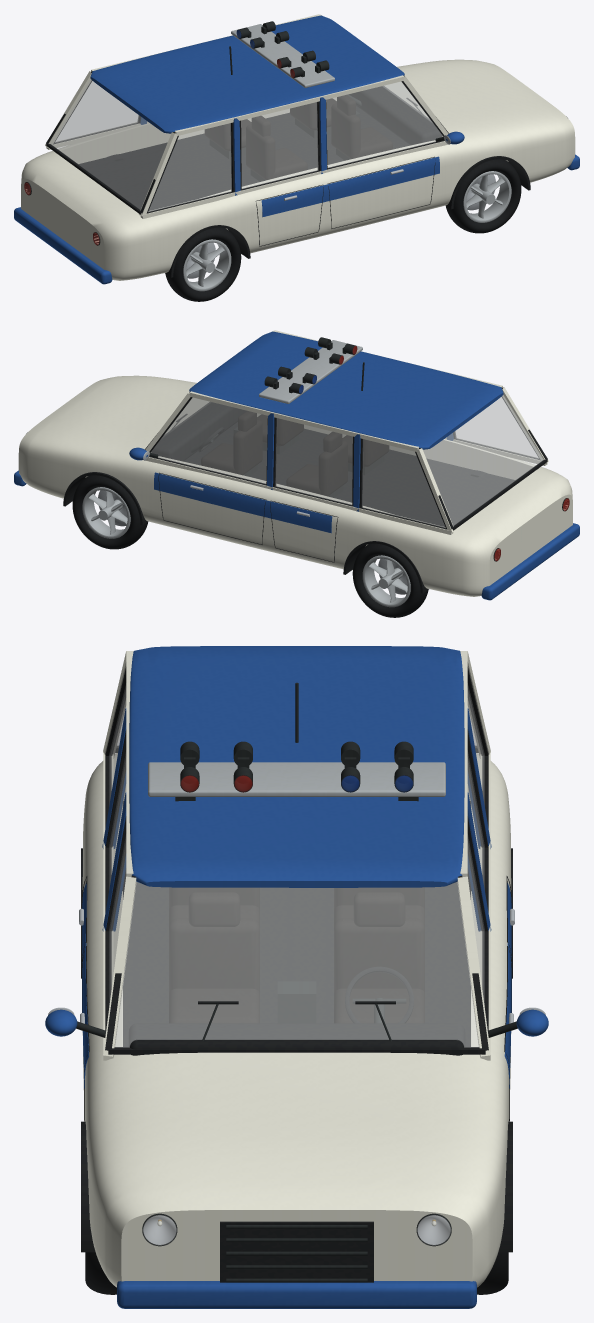
File: crime-police-suv.glb
3 renders of one model, top to bottom at view 1: azimuth 30°, elevation 25°; view 2: azimuth 150°, elevation 25°; view 3: azimuth 270°, elevation 25°, orthographic. The views are drawn at different scales.
Parts seen in each view (by area): view 1: Patrol sculpted body with cut cabin and wheel arches, Patrol shaped finite roof panel, Patrol cabin floor, Patrol rear screen finite transparent pane, Patrol front door glazing -1 finite transparent pane, Patrol rear door glazing -1 finite transparent pane, Patrol rear quarter glazing -1 finite transparent pane, Patrol generic blue side livery -1, Patrol closed dashboard, Patrol rear quarter glazing 1 finite transparent pane, Patrol wheel 1510.0 -1 rounded tyre carcass, Patrol wheel -1510.0 -1 rounded tyre carcass (+21 smaller); view 2: Patrol sculpted body with cut cabin and wheel arches, Patrol shaped finite roof panel, Patrol cabin floor, Patrol rear screen finite transparent pane, Patrol front door glazing 1 finite transparent pane, Patrol rear door glazing 1 finite transparent pane, Patrol rear quarter glazing 1 finite transparent pane, Patrol generic blue side livery 1, Patrol closed dashboard, Patrol rear quarter glazing -1 finite transparent pane, Patrol wheel 1510.0 1 rounded tyre carcass, Patrol wheel -1510.0 1 rounded tyre carcass (+21 smaller); view 3: Patrol sculpted body with cut cabin and wheel arches, Patrol shaped finite roof panel, Patrol windscreen finite transparent pane, Patrol cabin floor, Patrol bumper 1, Patrol closed dashboard, Patrol light bar base, Patrol grille backing, Patrol seat back 0 -1, Patrol seat back 0 1, Patrol seat cushion 0 -1, Patrol seat cushion 0 1 (+23 smaller).
Boxes of the visible parts, x1,y1,x2,y2 form: Patrol sculpted body with cut cabin and wheel arches: (21,59,575,280); Patrol shaped finite roof panel: (90,15,404,133); Patrol cabin floor: (79,106,409,210); Patrol rear screen finite transparent pane: (50,79,170,209); Patrol front door glazing -1 finite transparent pane: (326,82,442,167); Patrol rear door glazing -1 finite transparent pane: (241,102,318,188); Patrol rear quarter glazing -1 finite transparent pane: (148,123,231,211); Patrol generic blue side livery -1: (261,156,439,217); Patrol closed dashboard: (349,86,442,145); Patrol rear quarter glazing 1 finite transparent pane: (55,81,138,142); Patrol wheel 1510.0 -1 rounded tyre carcass: (445,159,521,233); Patrol wheel -1510.0 -1 rounded tyre carcass: (165,227,241,301); Patrol sculpted body with cut cabin and wheel arches: (18,375,572,596); Patrol shaped finite roof panel: (189,331,503,449); Patrol cabin floor: (184,422,514,526); Patrol rear screen finite transparent pane: (423,395,543,525); Patrol front door glazing 1 finite transparent pane: (151,398,267,483); Patrol rear door glazing 1 finite transparent pane: (275,418,352,504); Patrol rear quarter glazing 1 finite transparent pane: (362,439,445,527); Patrol generic blue side livery 1: (154,472,332,533); Patrol closed dashboard: (151,402,246,461); Patrol rear quarter glazing -1 finite transparent pane: (455,397,538,458); Patrol wheel 1510.0 1 rounded tyre carcass: (72,475,148,549); Patrol wheel -1510.0 1 rounded tyre carcass: (352,543,428,617); Patrol sculpted body with cut cabin and wheel arches: (82,753,511,1287); Patrol shaped finite roof panel: (129,646,464,887); Patrol windscreen finite transparent pane: (115,882,478,1047); Patrol cabin floor: (123,801,470,1046); Patrol bumper 1: (117,1281,476,1308); Patrol closed dashboard: (128,1023,465,1055); Patrol light bar base: (148,762,445,796); Patrol grille backing: (220,1221,373,1282); Patrol seat back 0 -1: (169,918,259,992); Patrol seat back 0 1: (334,918,424,992); Patrol seat cushion 0 -1: (169,988,259,1023); Patrol seat cushion 0 1: (334,988,424,1023).
Size of the model in its own units: 5.16 by 2.07 by 2.35.
Materials: 14 (10 with a texture image).
